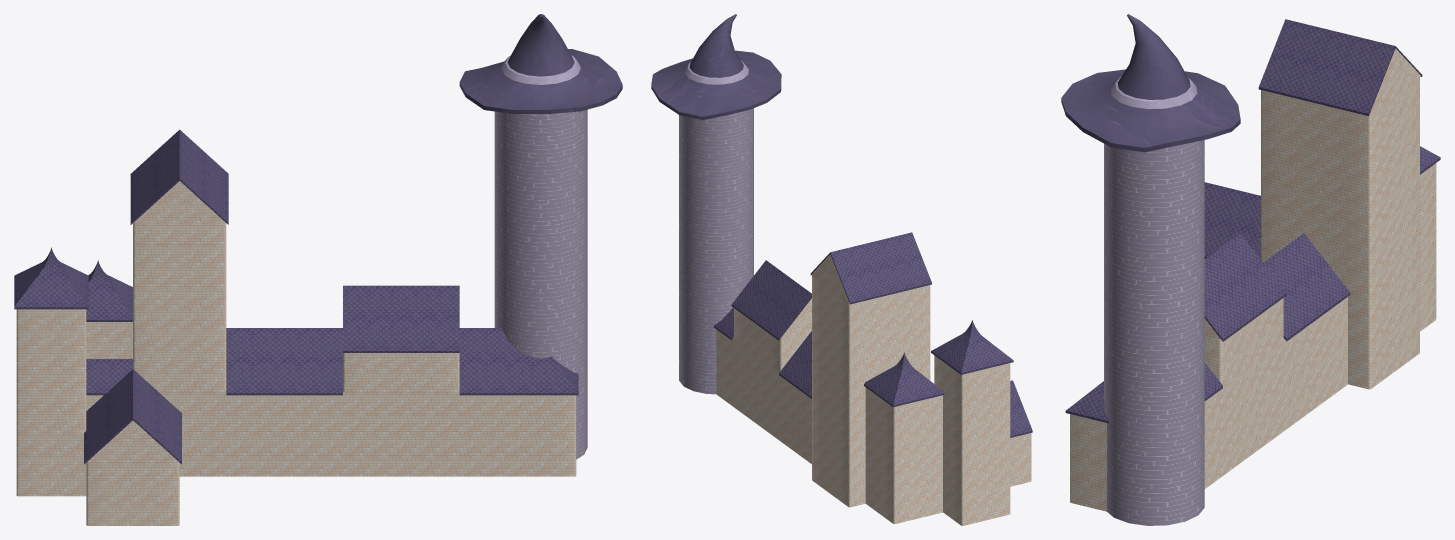
File: Building_Tower_Full.fbx
3 renders of one model, left to right at view 1: azimuth 30°, elevation 25°; view 2: azimuth 150°, elevation 25°; view 3: azimuth 270°, elevation 25°, orthographic. The views are drawn at different scales.
Visible parts, largest first — view 1: Roof_Out_Eaves_1; view 2: Roof_Out_Eaves_1; view 3: Roof_Out_Eaves_1.
Part boxes in pixels (box(x1,y1,x2,y2)): Roof_Out_Eaves_1: box(14, 14, 622, 525); Roof_Out_Eaves_1: box(651, 14, 1032, 525); Roof_Out_Eaves_1: box(1061, 14, 1440, 525).
Size of the model in its own units: 5127 by 4200 by 2982.
